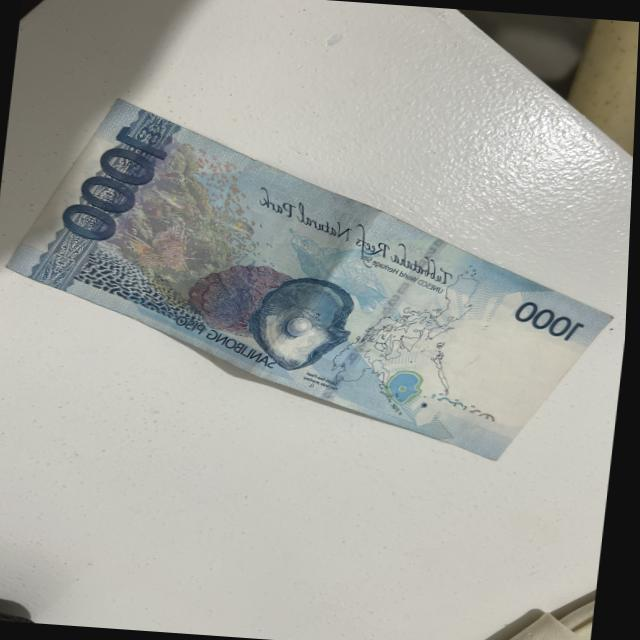1000_pearl: (251, 269, 355, 370)
1000_pearl_watermark: (383, 368, 431, 409)
